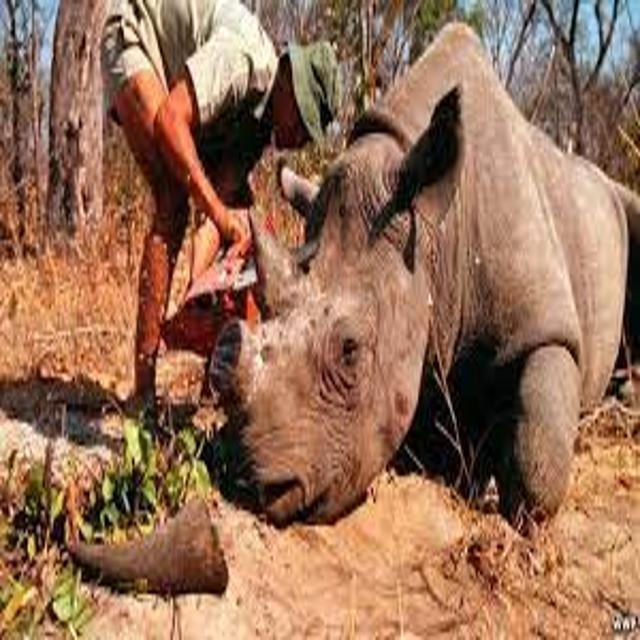Rinoceros: (182, 159, 640, 572)
